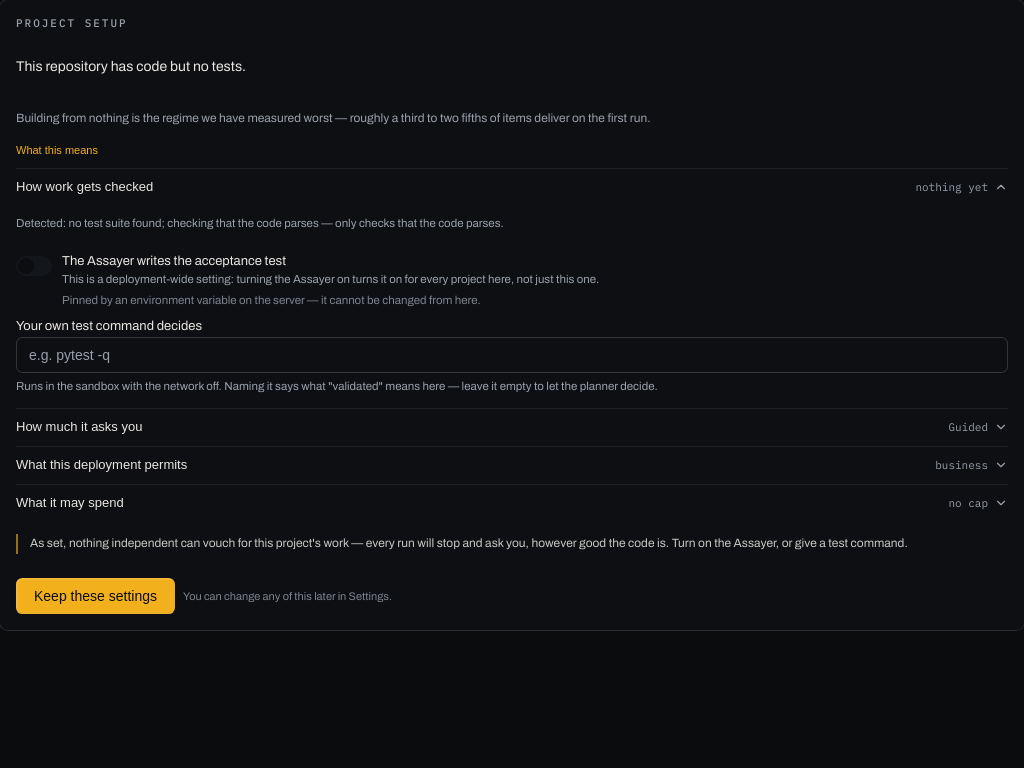
Test: it states what was measured, and what that means › warns when nothing could vouch, and stops warning once something can
Expected: the message shows "nothing independent can vouch", top-left (30, 536), bottom-right (908, 550)
Type "pytest -q" into the field labelled "test command". click: [512, 355]
box: top-left (16, 337), bottom-right (1008, 373)
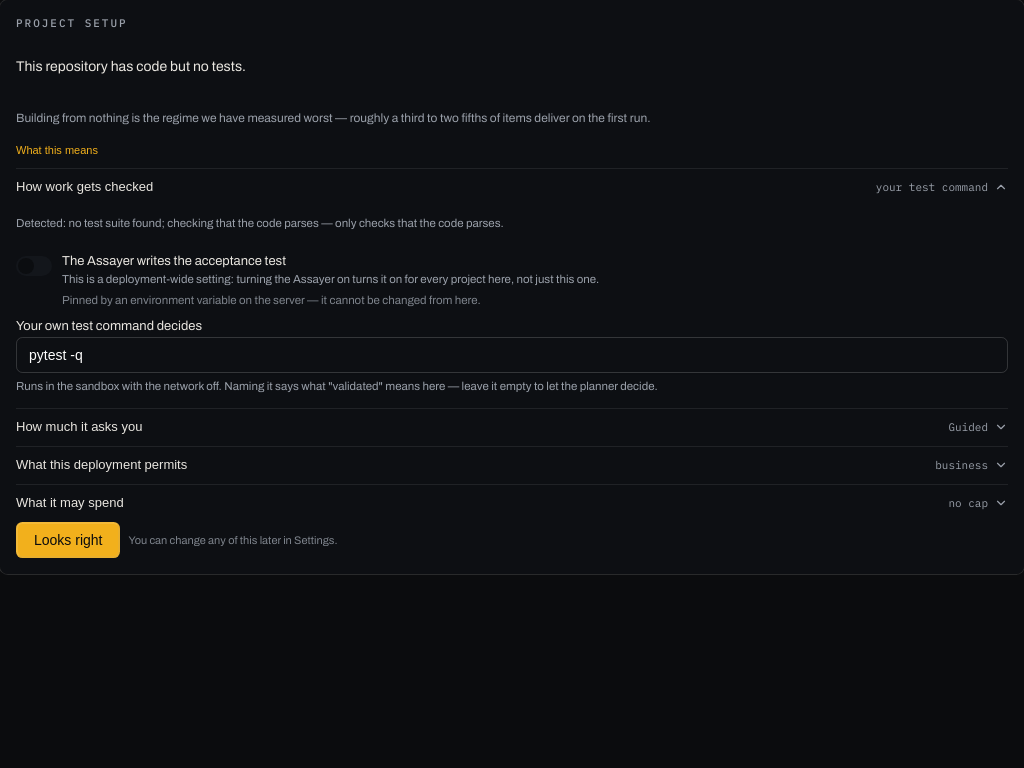
Now the message is gone
